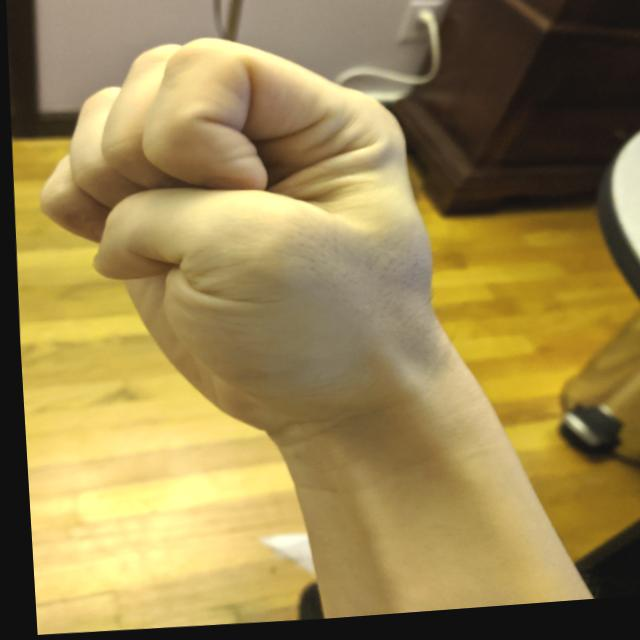E: (17, 18, 453, 463)
